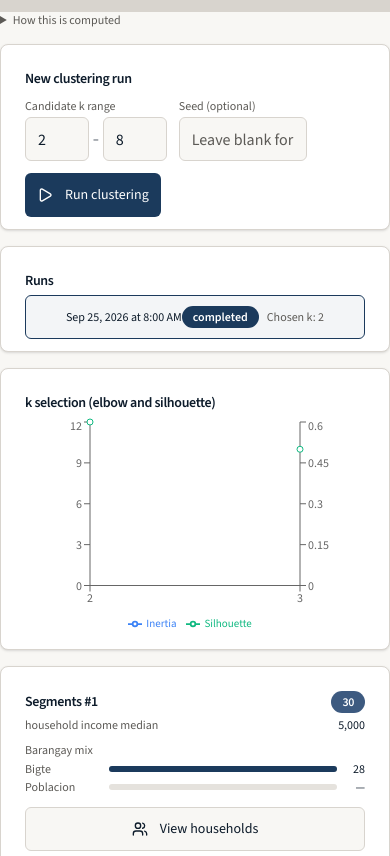
Test: ClusteringTab › surfaces insufficient-data details from a failed run
Click the button "Run clustering": (93,195) [25,173,161,217]
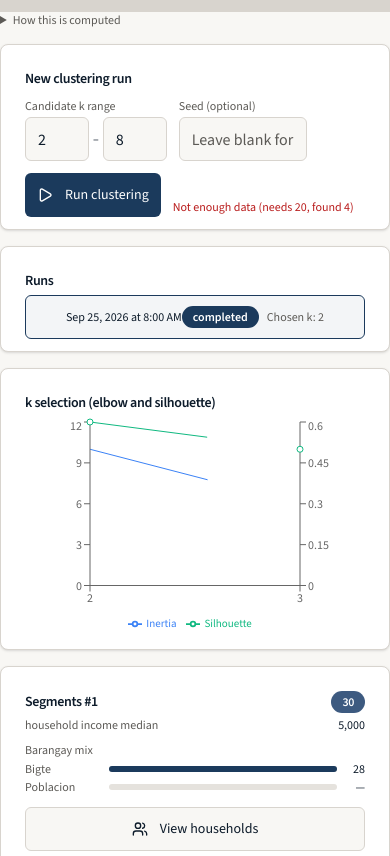
expect the message reads "Not enough data (needs 20, found 4)": met, box [173,198,354,214]
